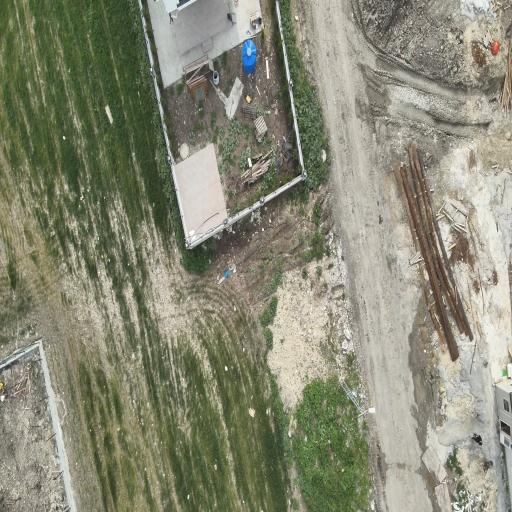person: (472, 434, 482, 445)
